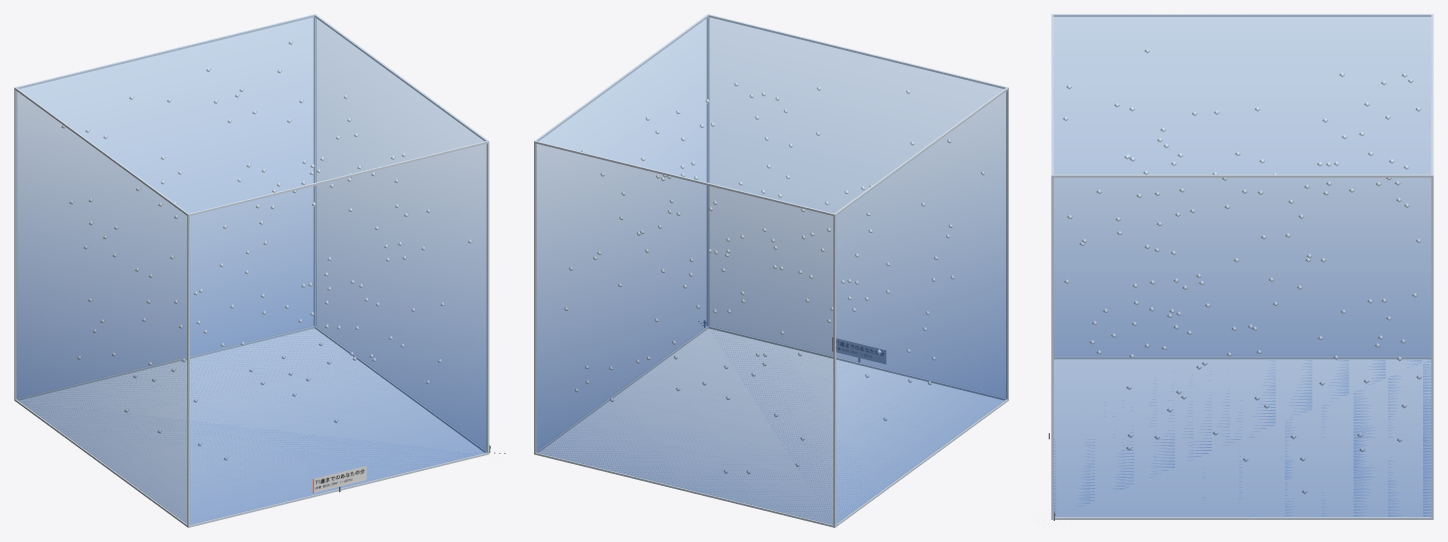
Rendered from cube_life_71.glb.
3 views of the same model, side by side, from view 1: azimuth 30°, elevation 25°; view 2: azimuth 150°, elevation 25°; view 3: azimuth 270°, elevation 25° (orthographic). The views are drawn at different scales.
Visible parts, largest first — view 1: co2, edge, dots, label; view 2: co2, edge, dots, label; view 3: co2, edge, dots.
Part boxes in pixels (left/top/right/bottom): co2: left=16, top=15, right=486, bottom=524; edge: left=14, top=14, right=489, bottom=527; dots: left=61, top=40, right=472, bottom=460; label: left=312, top=466, right=366, bottom=492; co2: left=536, top=15, right=1006, bottom=524; edge: left=534, top=14, right=1008, bottom=527; dots: left=564, top=82, right=984, bottom=474; label: left=832, top=337, right=885, bottom=363; co2: left=1053, top=14, right=1431, bottom=516; edge: left=1051, top=14, right=1433, bottom=519; dots: left=1063, top=48, right=1421, bottom=493.
Bounding box in the file's own units: 70.36 × 66.59 × 69.46.
8 materials, 3 textured.
